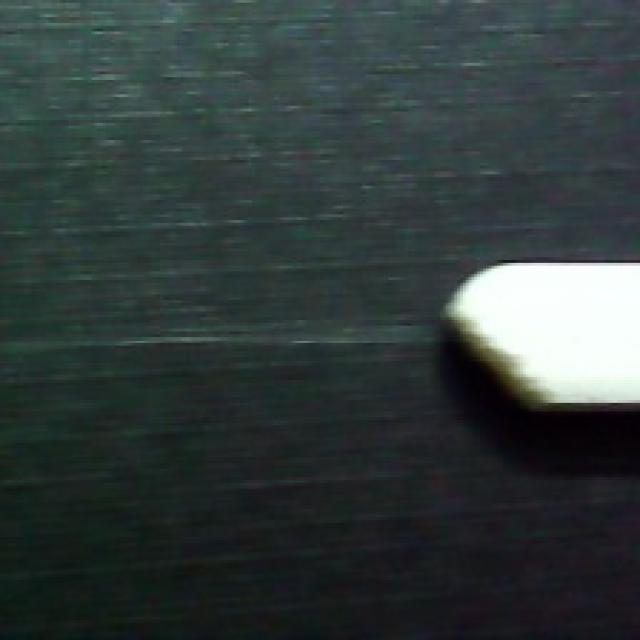defected: (443, 260, 640, 423)
